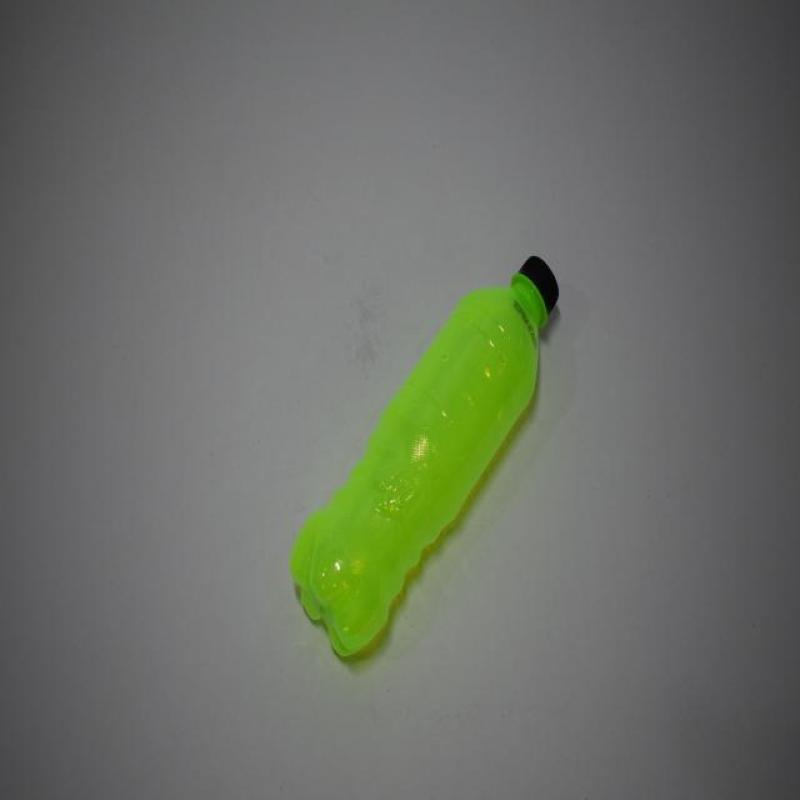botella: (290, 252, 560, 658)
